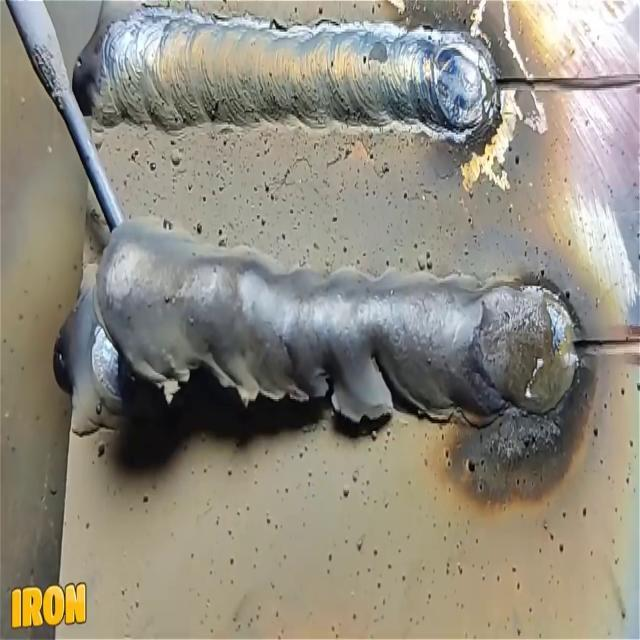Bad Welding: (89, 9, 499, 142)
Crack: (55, 216, 578, 433)
